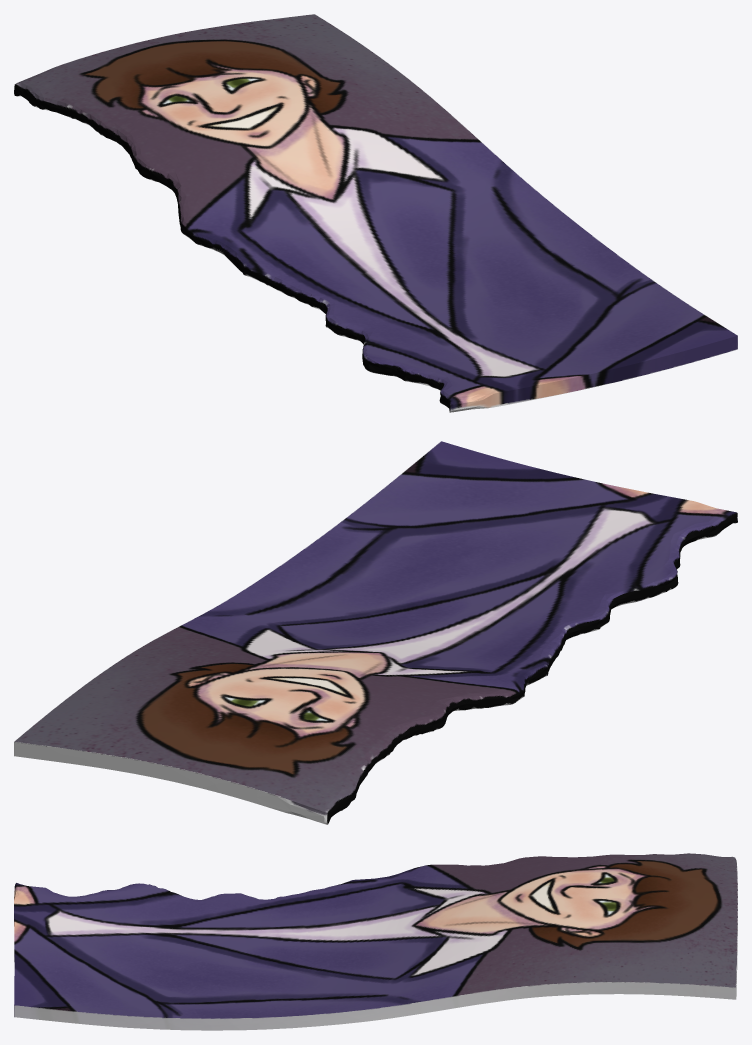
File: Folhas3.obj
The picture shows the model from 3 angles, top to bottom: view 1: azimuth 30°, elevation 25°; view 2: azimuth 150°, elevation 25°; view 3: azimuth 270°, elevation 25°; orthographic projection. The views are drawn at different scales.
Visible parts, largest first — view 1: Folha3; view 2: Folha3; view 3: Folha3.
Boxes of the visible parts, x1,y1,x2,y2 form: Folha3: (14,14,737,412); Folha3: (14,441,737,824); Folha3: (14,853,737,1030).
Size of the model in its own units: 0.4413 by 0.0908 by 1.
Materials: 1 (1 with a texture image).
